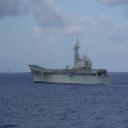Portanaves: (28, 34, 114, 86)
